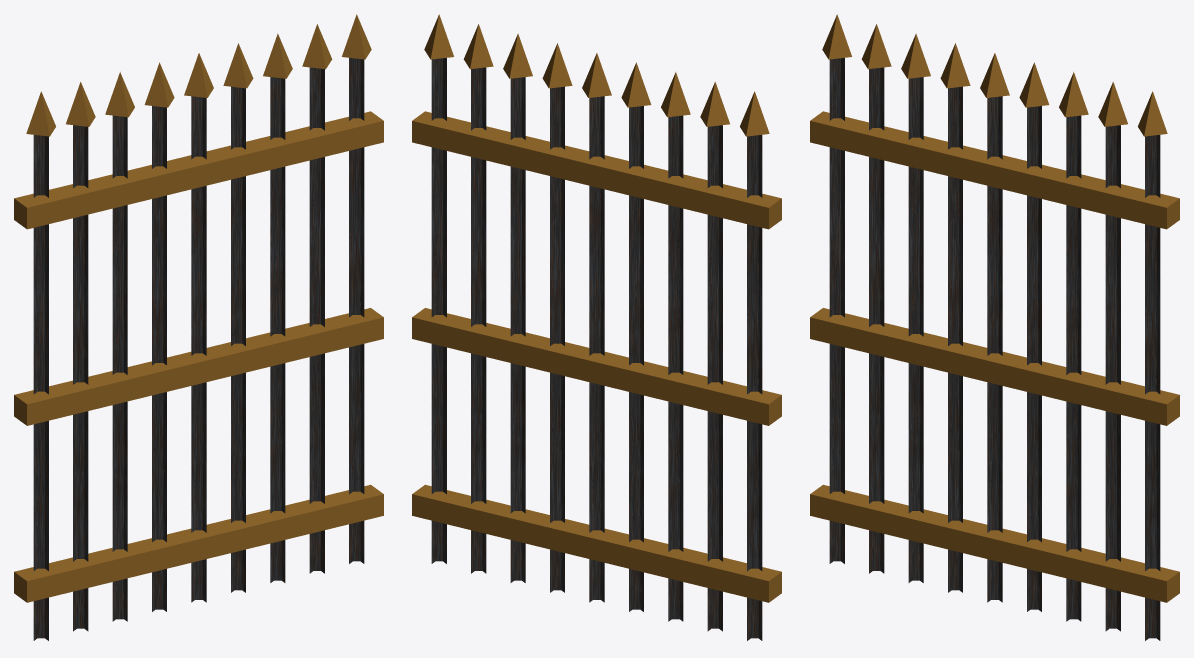
Rendered from D04_Portao_Definitivo.obj.
3 views of the same model, side by side, from view 1: azimuth 30°, elevation 25°; view 2: azimuth 150°, elevation 25°; view 3: azimuth 330°, elevation 25° (orthographic).
Parts seen in each view (by area): view 1: D04_Portao_Definitivo; view 2: D04_Portao_Definitivo; view 3: D04_Portao_Definitivo.
Boxes of the visible parts, x1,y1,x2,y2 form: D04_Portao_Definitivo: (14, 14, 383, 640); D04_Portao_Definitivo: (412, 14, 781, 640); D04_Portao_Definitivo: (810, 14, 1179, 640).
Bounding box in the file's own units: 1.9 × 2.8 × 0.16.
Materials: 2 (1 with a texture image).
